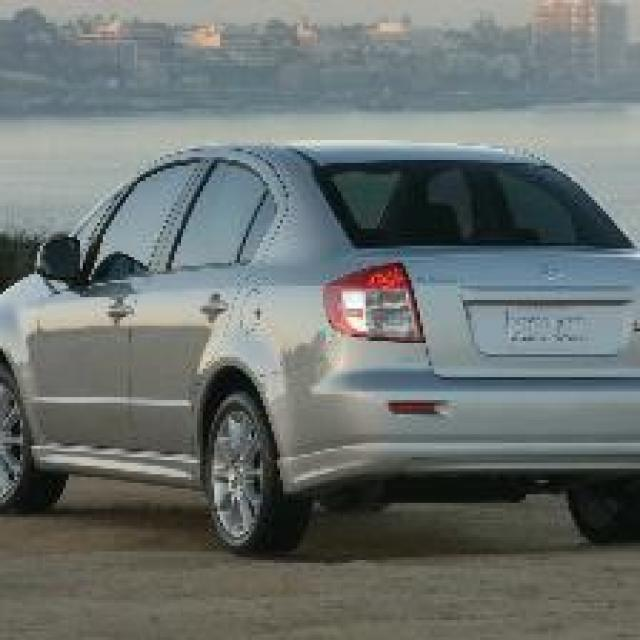damaged: (280, 332, 340, 428)
